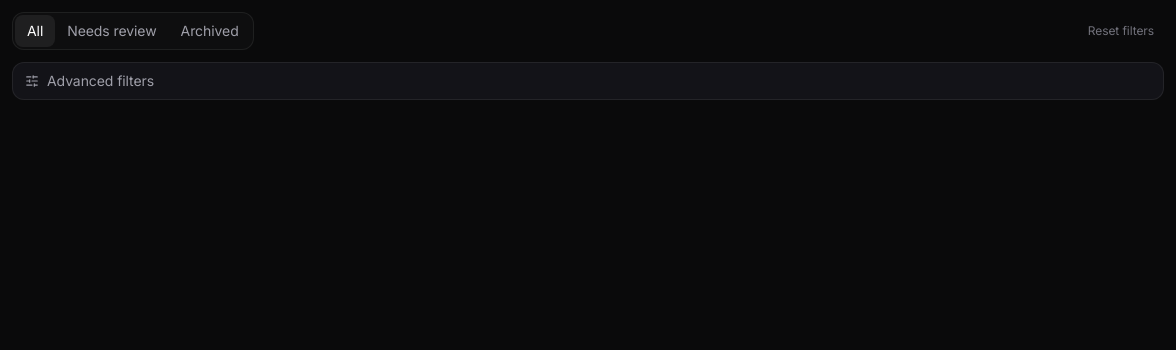
Test: ClaimFilters › keeps advanced filters (sensitivity, type, lifecycle, verification, trust) behind a collapsible drawer
Click the heading "Advanced filters" at (90, 80), box [25,72,154,89]
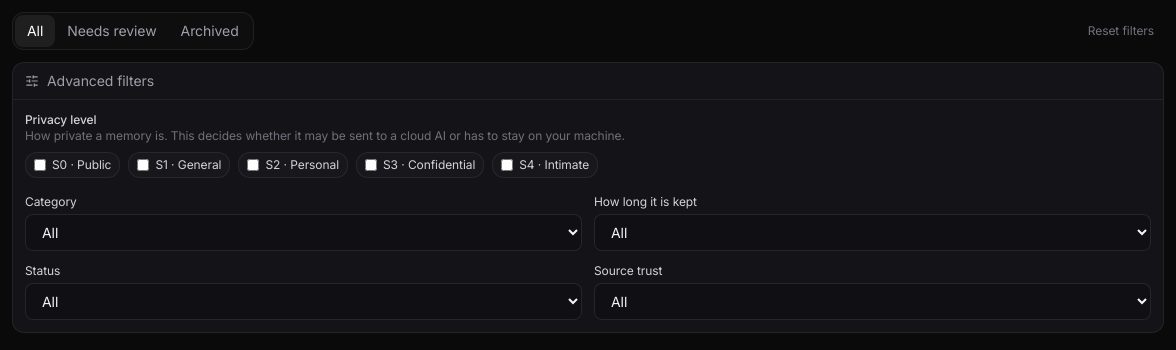
Now the checkbox labelled "S0 · Public" is shown, box [34,159,46,171]
Now the checkbox labelled "S1 · General" is shown, box [137,159,149,171]
Now the checkbox labelled "S2 · Personal" is shown, box [247,159,259,171]
